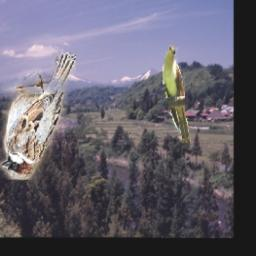Cuckoo: (164, 46, 192, 144)
Sparrow: (0, 52, 76, 180)
